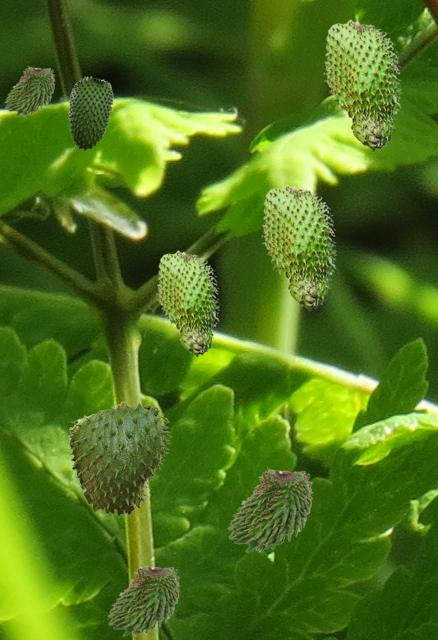guyabano: (68, 401, 171, 518), (323, 19, 401, 151), (261, 184, 336, 310), (227, 466, 312, 551), (156, 250, 219, 356), (107, 563, 179, 635), (68, 76, 112, 150), (4, 65, 54, 115)
